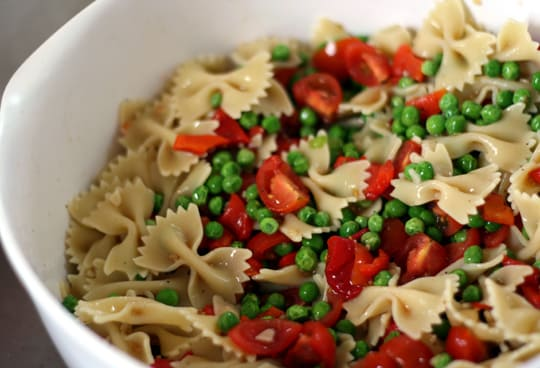boiled peas: (403, 105, 468, 138), (206, 174, 241, 205), (349, 211, 380, 246), (410, 162, 420, 177)
plain spaghetti: (101, 66, 182, 316)
